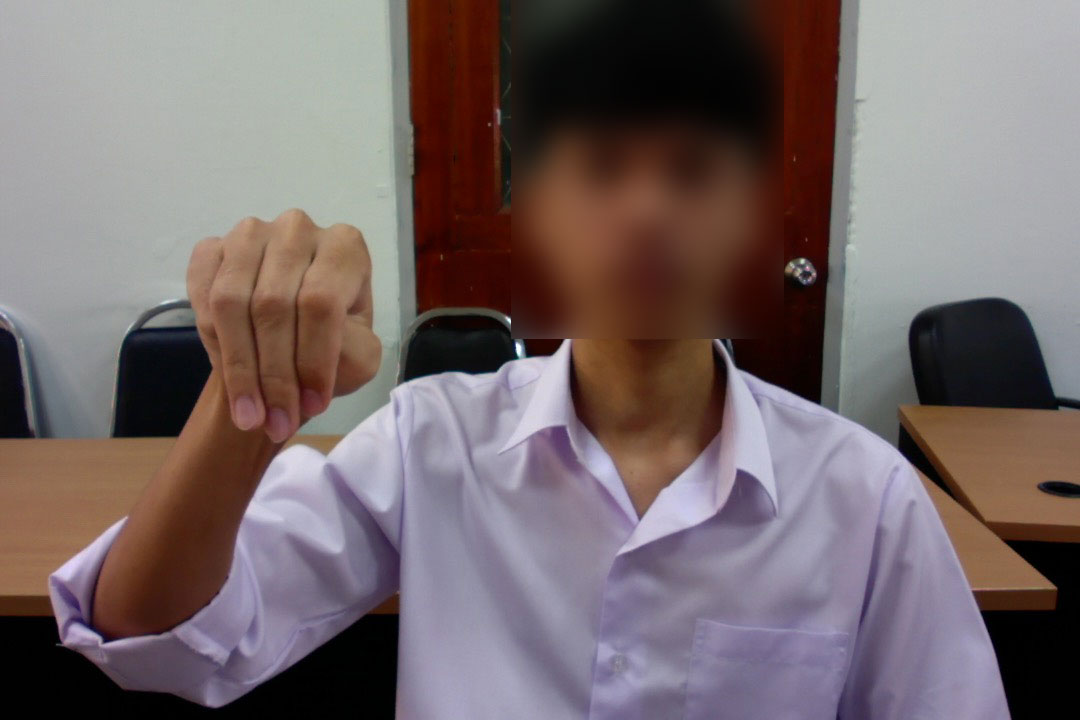mor: (177, 195, 389, 454)
